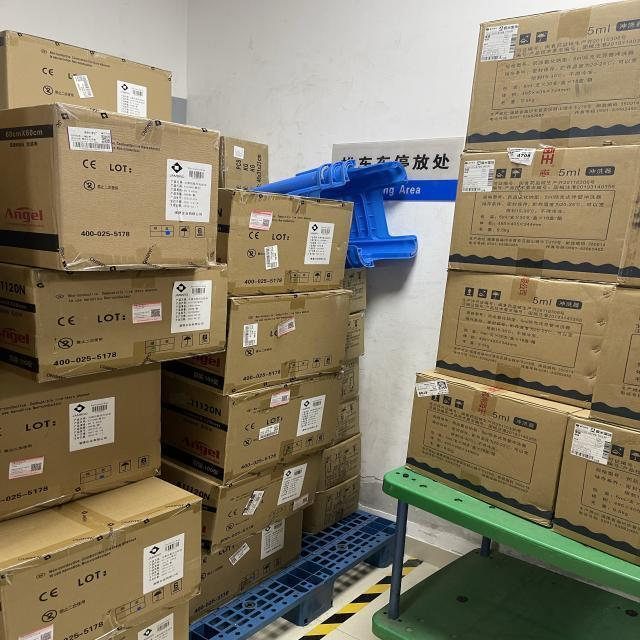box: (0, 105, 223, 270), (0, 470, 202, 639), (409, 364, 585, 529), (449, 133, 640, 285), (0, 362, 168, 524), (0, 263, 228, 382), (467, 0, 640, 148), (154, 367, 342, 491), (439, 266, 602, 406), (0, 25, 173, 127), (154, 505, 307, 619), (190, 284, 347, 394), (153, 450, 323, 551), (218, 184, 356, 294), (554, 408, 640, 572), (587, 286, 640, 432), (306, 477, 364, 539), (216, 134, 273, 193), (317, 429, 365, 489), (322, 394, 362, 451), (339, 308, 367, 364), (336, 357, 363, 407), (338, 273, 369, 314)
